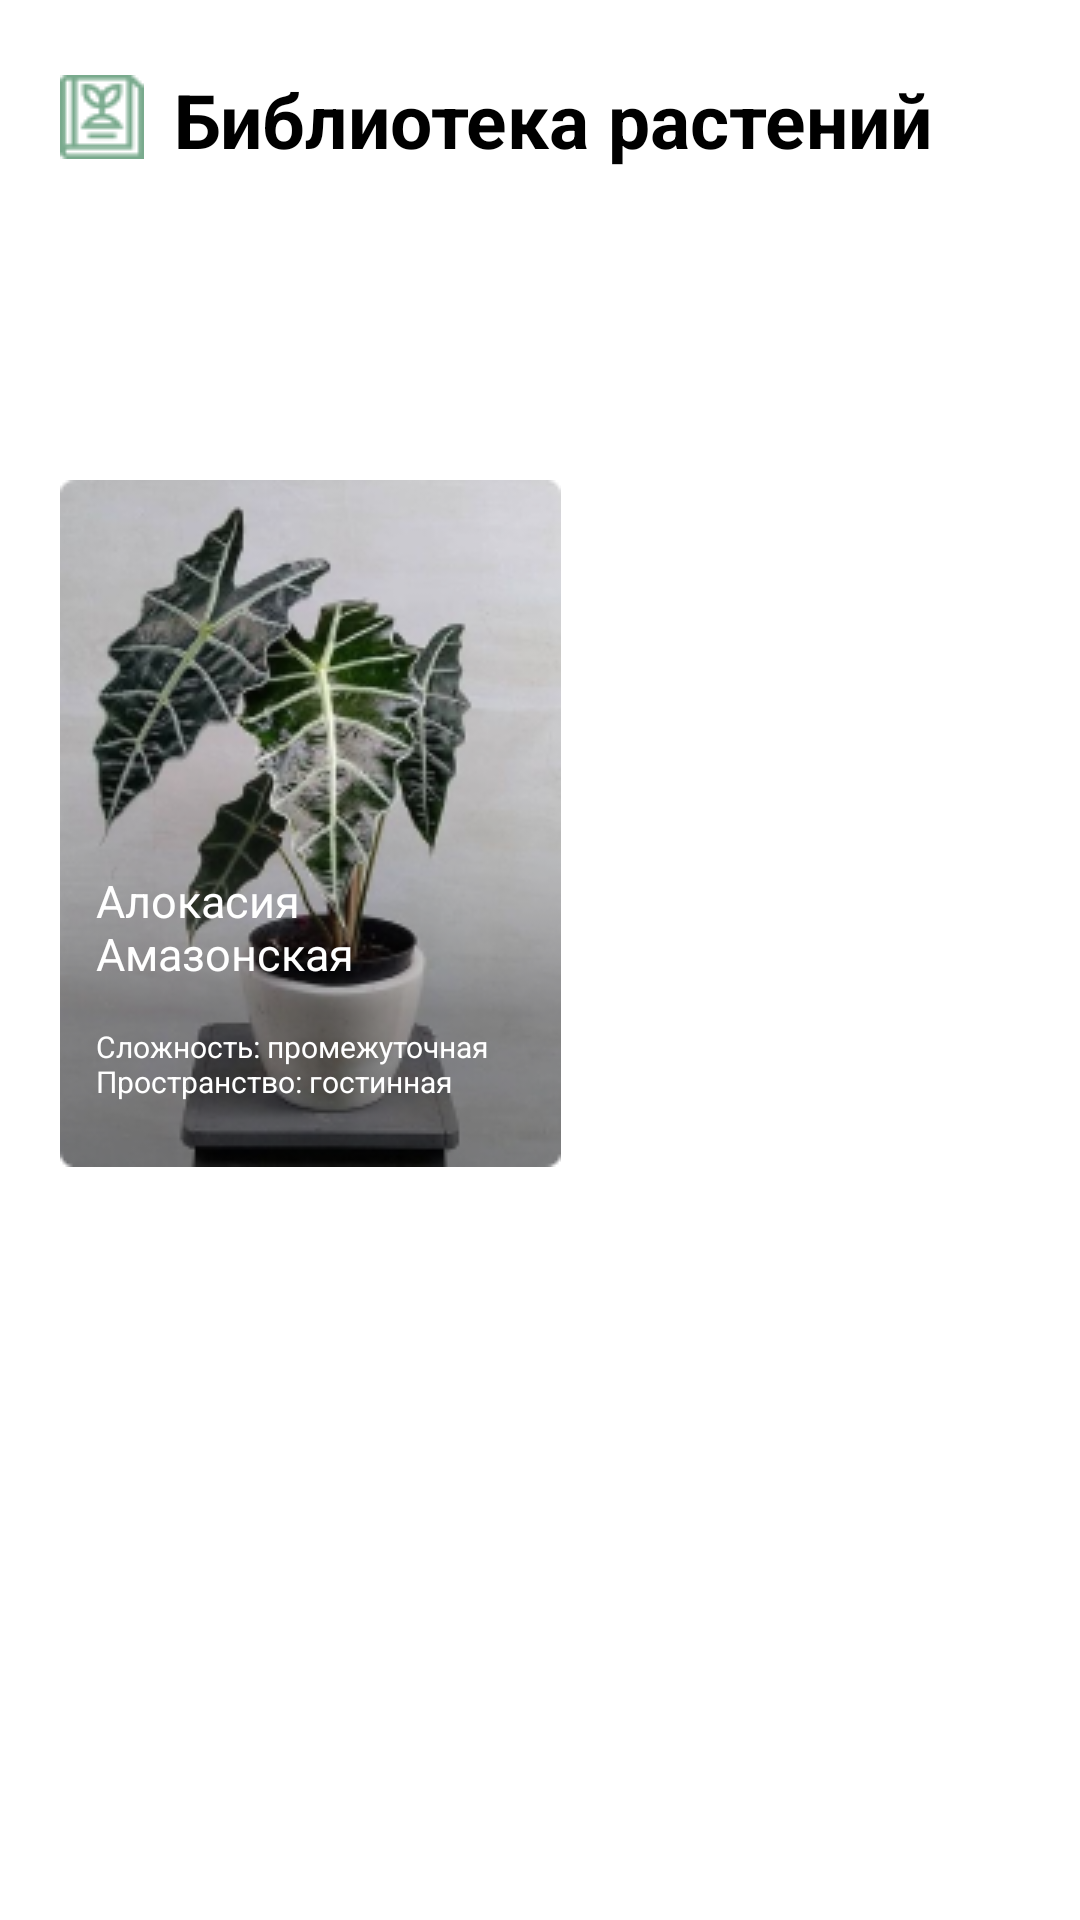

Icons on this 1080×1920 Android screen, each with its box as detection(x1, y1, x2, y2):
plant library: detection(60, 75, 144, 159)
